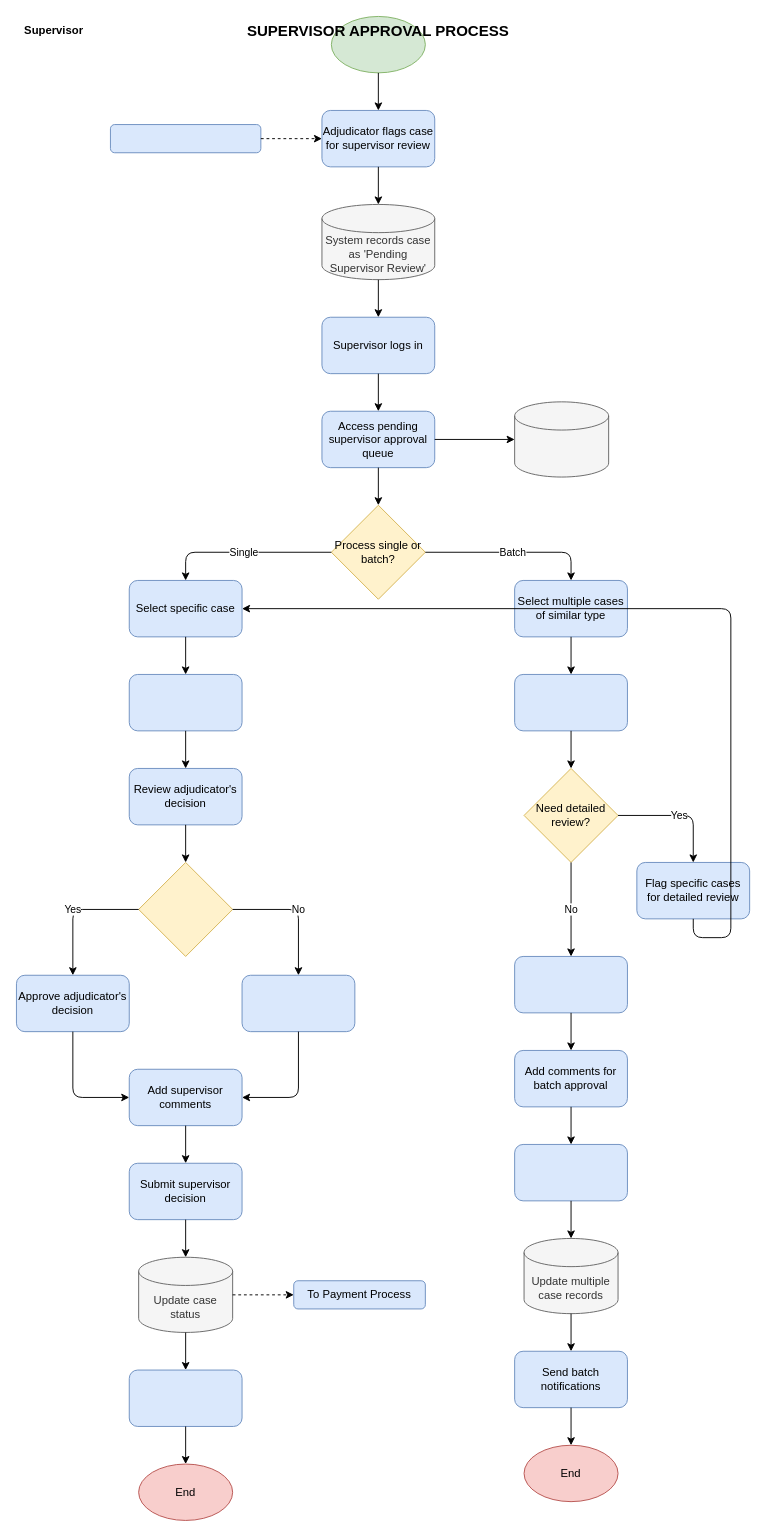
Some shapes in this 766 by 1537 pixel diagram are drawn without their labels. The shapes that lost their labels are listed below. From the top down, each one's box as (x1, y1, x2, y2) in pixels, then its label:
(330, 16, 425, 73): Start
(110, 124, 261, 153): From Adjudication Process
(514, 401, 609, 477): Retrieve pending cases
(128, 674, 242, 731): Review case details and evidence
(514, 674, 627, 731): Review summary of batch cases
(138, 862, 233, 956): Approve decision?
(241, 974, 355, 1032): Reject and provide feedback
(514, 956, 627, 1013): Approve remaining batch cases
(514, 1144, 627, 1201): Submit batch approval
(128, 1369, 242, 1426): Notify adjudicator of supervisor decision
